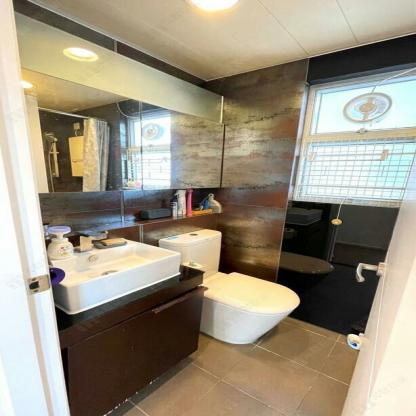Exhaust Fan: (338, 84, 398, 127)
Faucet: (72, 227, 105, 252)
Toilet: (157, 227, 299, 344)
Toilet Sink: (51, 237, 183, 312)
